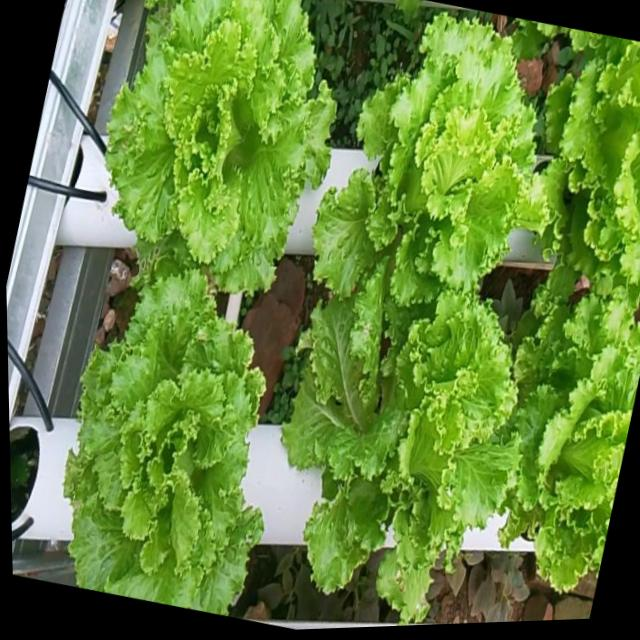Mature: (286, 291, 526, 622), (66, 247, 270, 614), (319, 6, 551, 323), (111, 0, 345, 282), (506, 297, 640, 598), (554, 37, 640, 293)
